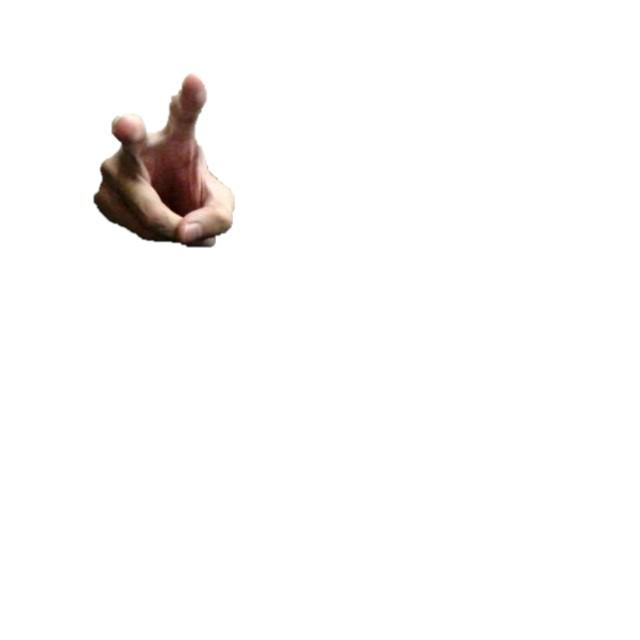tyoki: (92, 72, 237, 250)
